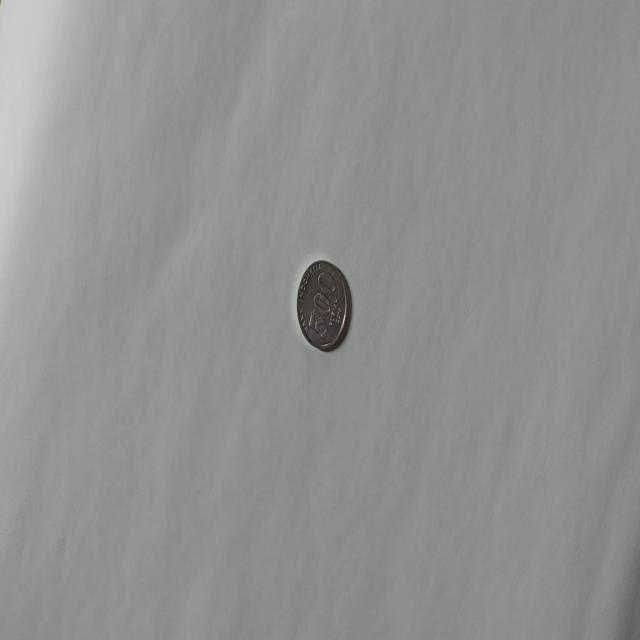lima ratus rupiah: (296, 258, 350, 352)
